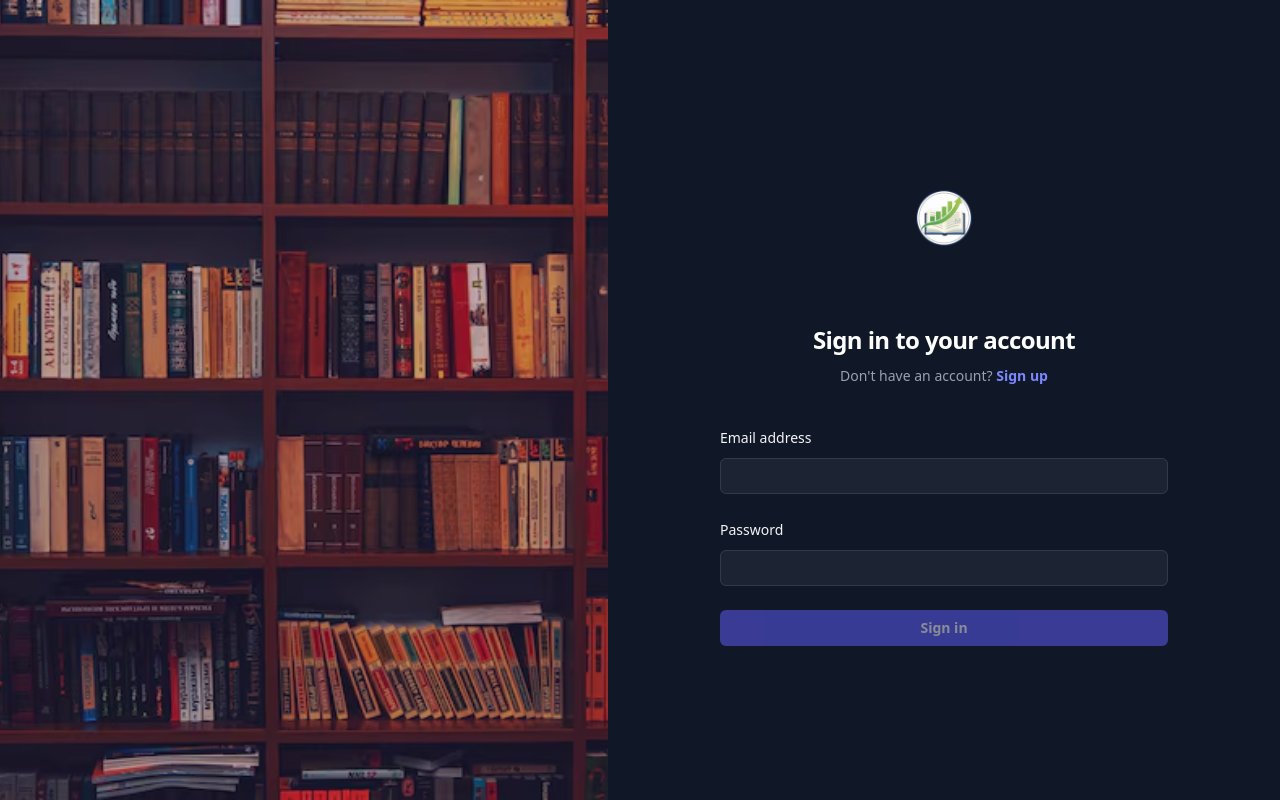
Test: SignIn › should show error in form on 422 validation failure
Clear the field with test id "form-input-email": {"x": 944, "y": 476} [720,458,1168,494]
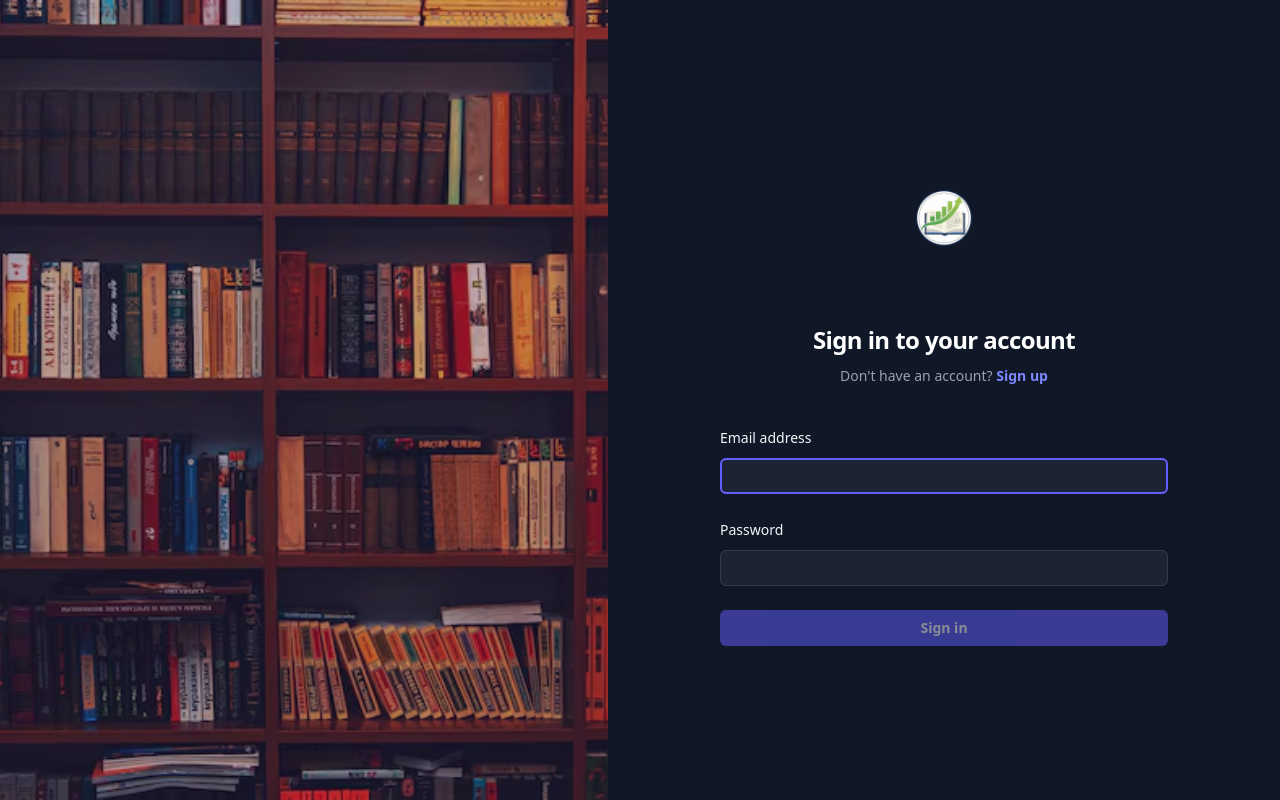
Clear the password field with test id "form-input-password": {"x": 944, "y": 568} [720,550,1168,586]
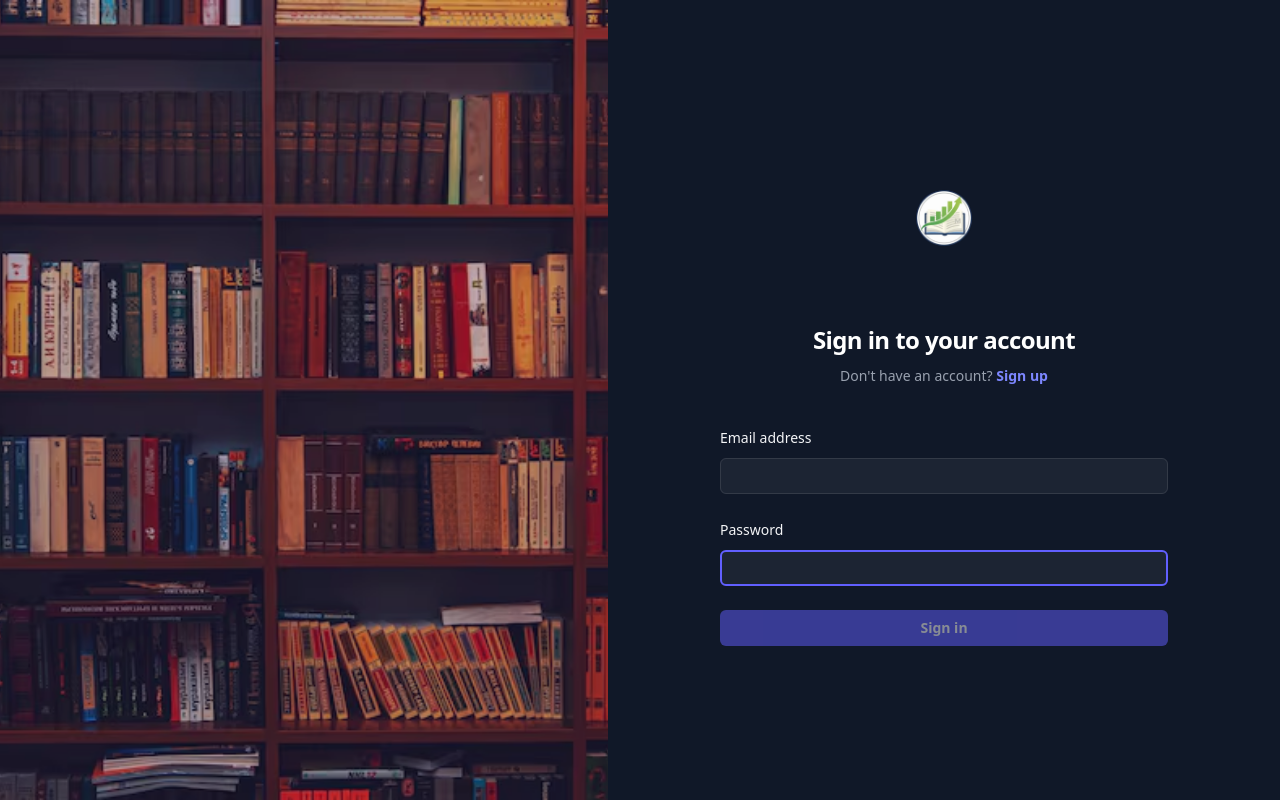
In the field with test id "form-input-email": {"x": 944, "y": 476} [720,458,1168,494], type "test@example.com"
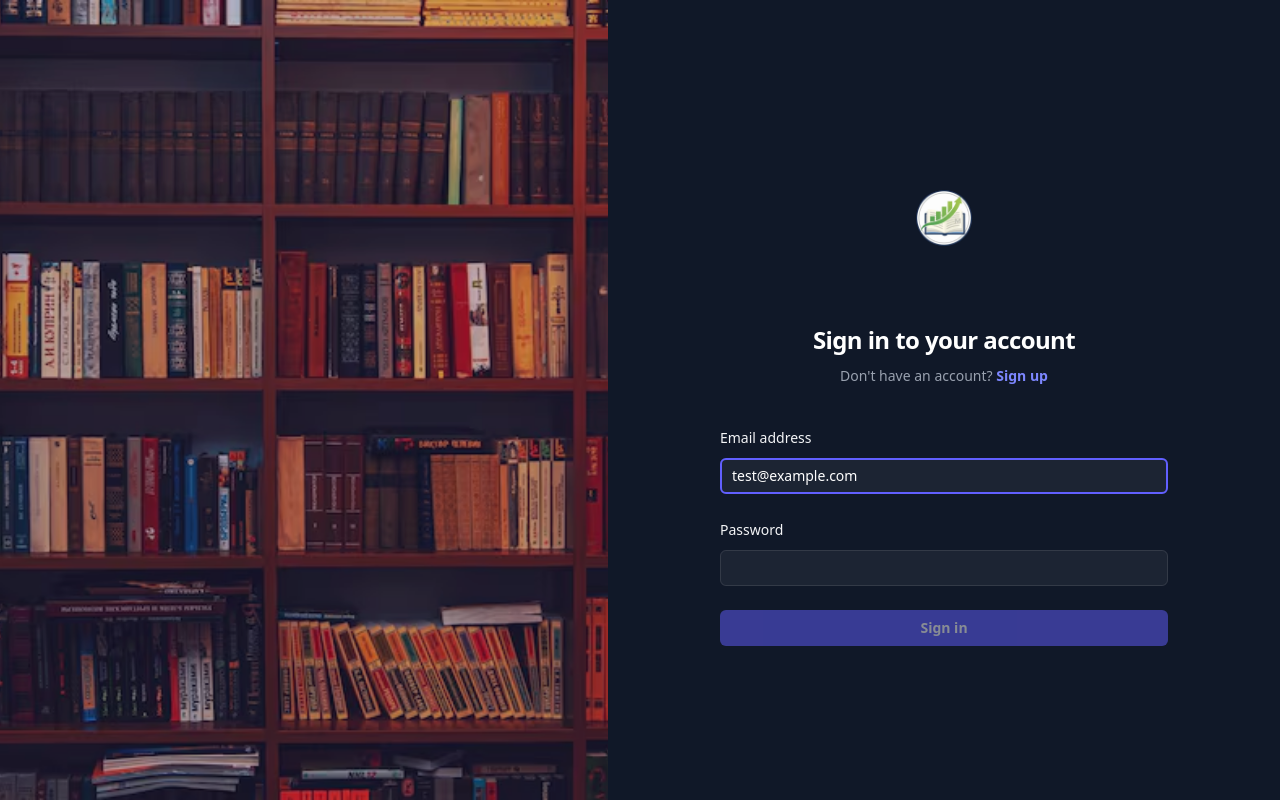
In the password field with test id "form-input-password": {"x": 944, "y": 568} [720,550,1168,586], type "testpass"
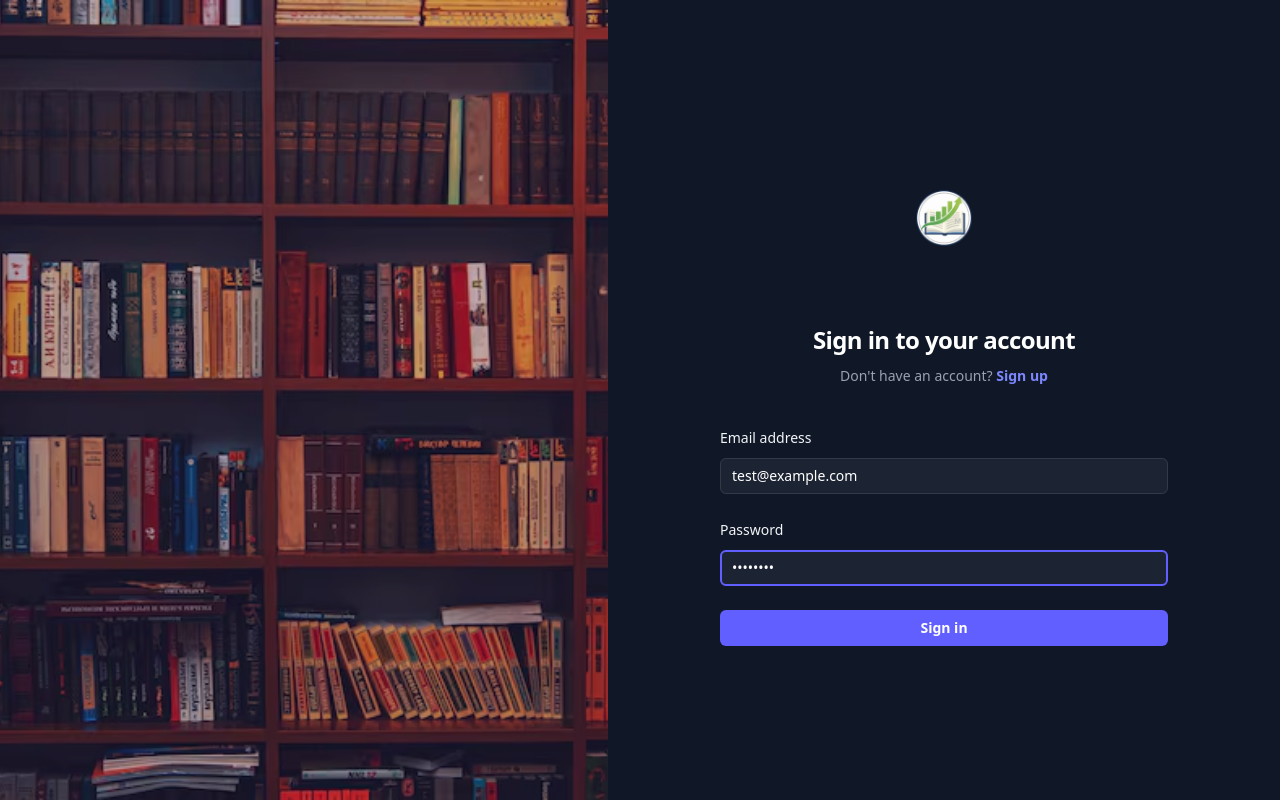
Click the button with test id "signin-submit-button": {"x": 944, "y": 628} [720,610,1168,646]
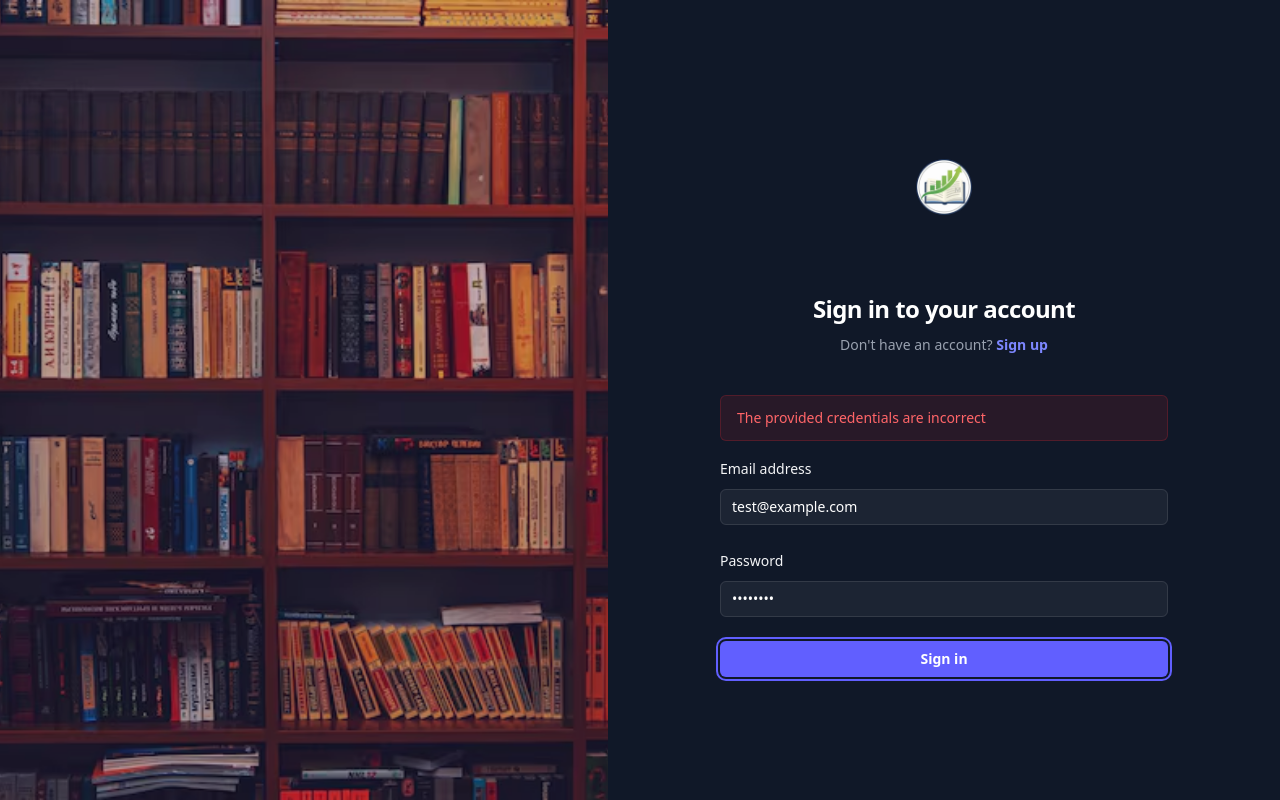
Check: the text "The provided credentials are incorrect" is shown, box [720,395,1168,441]
Check: the text with test id "form-error" reads "The provided credentials are incorrect", box [737,408,986,427]
